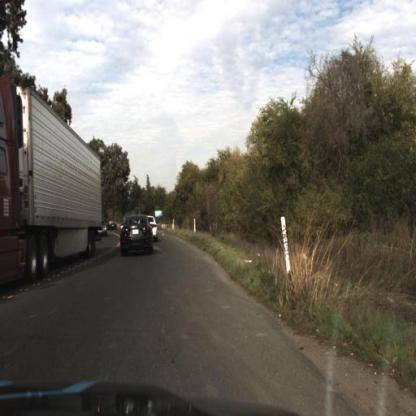car: (118, 213, 158, 259), (146, 204, 164, 245), (150, 215, 162, 240)
truck: (1, 78, 102, 282)
